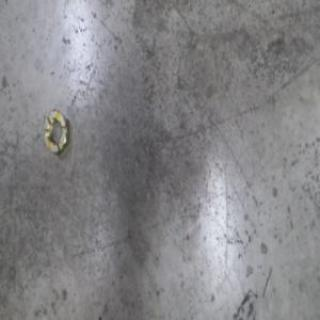Nuttrack_idkeyframe: (40, 106, 70, 157)
